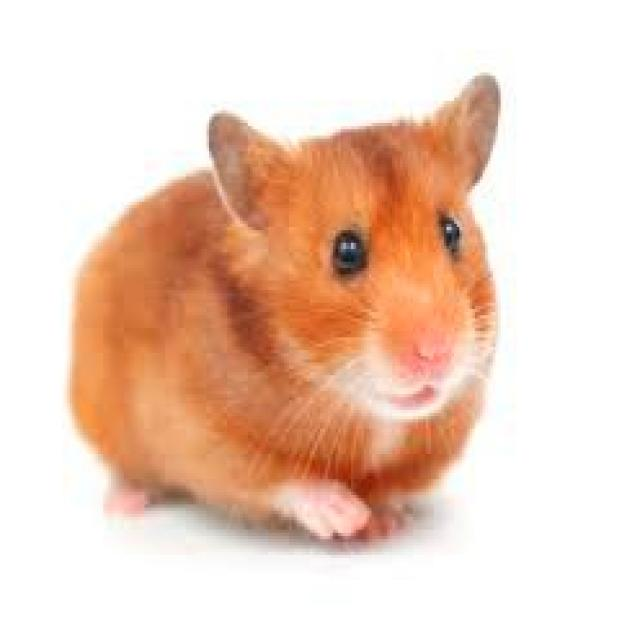hamster: (72, 76, 501, 536)
